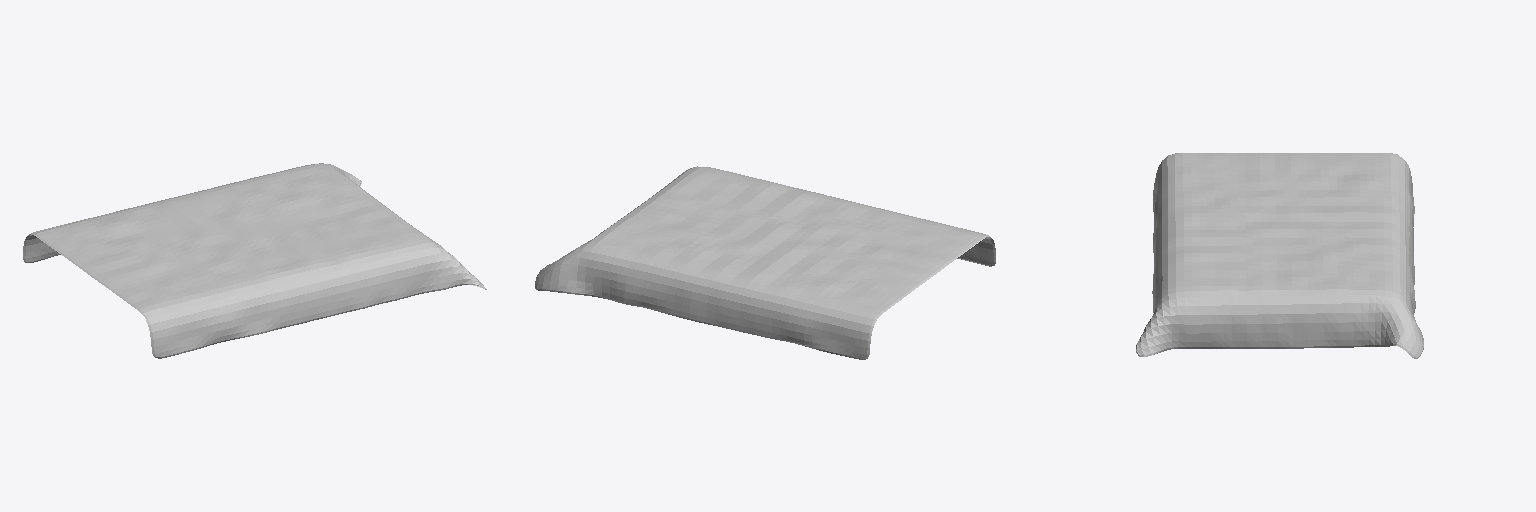
The model's file is sheets.obj.
3 views of the same model, side by side, from view 1: azimuth 30°, elevation 25°; view 2: azimuth 150°, elevation 25°; view 3: azimuth 270°, elevation 25° (orthographic).
Parts seen in each view (by area): view 1: Plane.001; view 2: Plane.001; view 3: Plane.001.
Boxes of the visible parts, box(x1,y1,x2,y2) form: Plane.001: box(23, 163, 486, 358); Plane.001: box(535, 166, 995, 359); Plane.001: box(1136, 153, 1423, 358).
Size of the model in its own units: 4.28 by 0.6209 by 3.19.